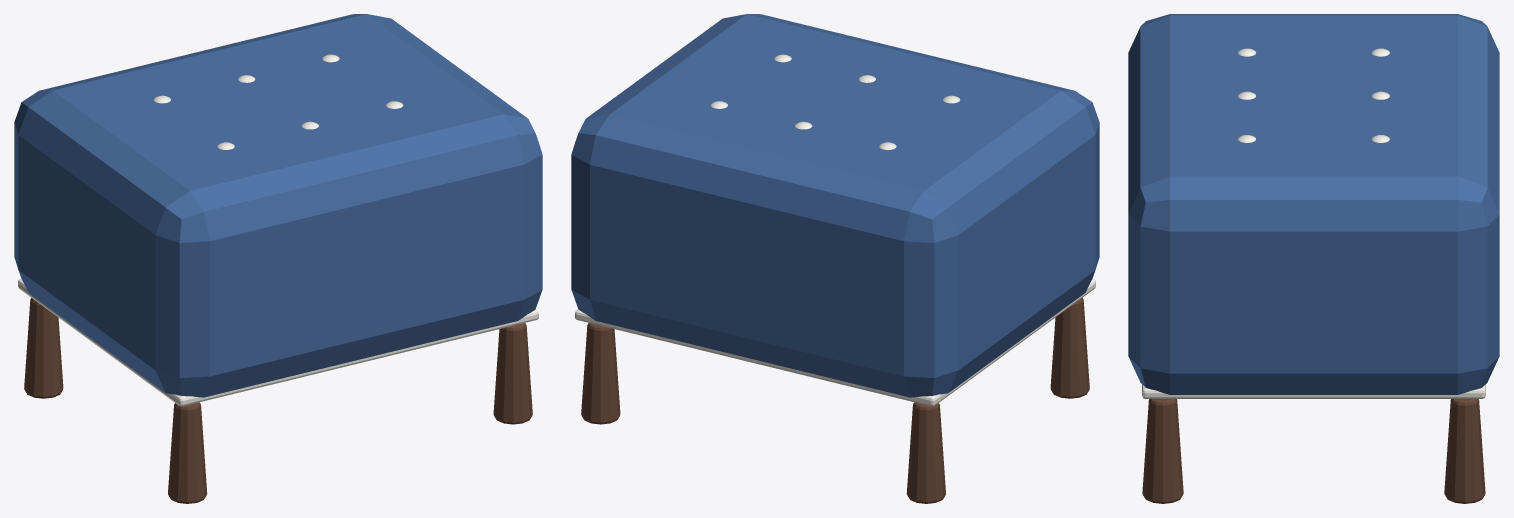
The model's file is hh_cat_footstool.glb.
3 renders of one model, left to right at view 1: azimuth 30°, elevation 25°; view 2: azimuth 150°, elevation 25°; view 3: azimuth 270°, elevation 25°, orthographic. The views are drawn at different scales.
Visible parts, largest first — view 1: cushion, leg, leg.002, leg.001, piping; view 2: cushion, leg.001, leg.003, leg, piping; view 3: cushion, leg.002, leg.003, piping.
Part boxes in pixels (box(x1,y1,x2,y2)): cushion: box(14, 14, 542, 397); leg: box(168, 402, 207, 503); leg.002: box(493, 323, 532, 424); leg.001: box(24, 298, 63, 398); piping: box(18, 279, 538, 406); cushion: box(571, 14, 1099, 397); leg.001: box(906, 402, 945, 503); leg.003: box(581, 323, 620, 424); leg: box(1050, 298, 1089, 398); piping: box(575, 279, 1095, 406); cushion: box(1128, 14, 1499, 394); leg.002: box(1142, 399, 1183, 503); leg.003: box(1444, 399, 1485, 503); piping: box(1142, 384, 1485, 398).
Bounding box in the file's own units: 0.5 × 0.38 × 0.4.
